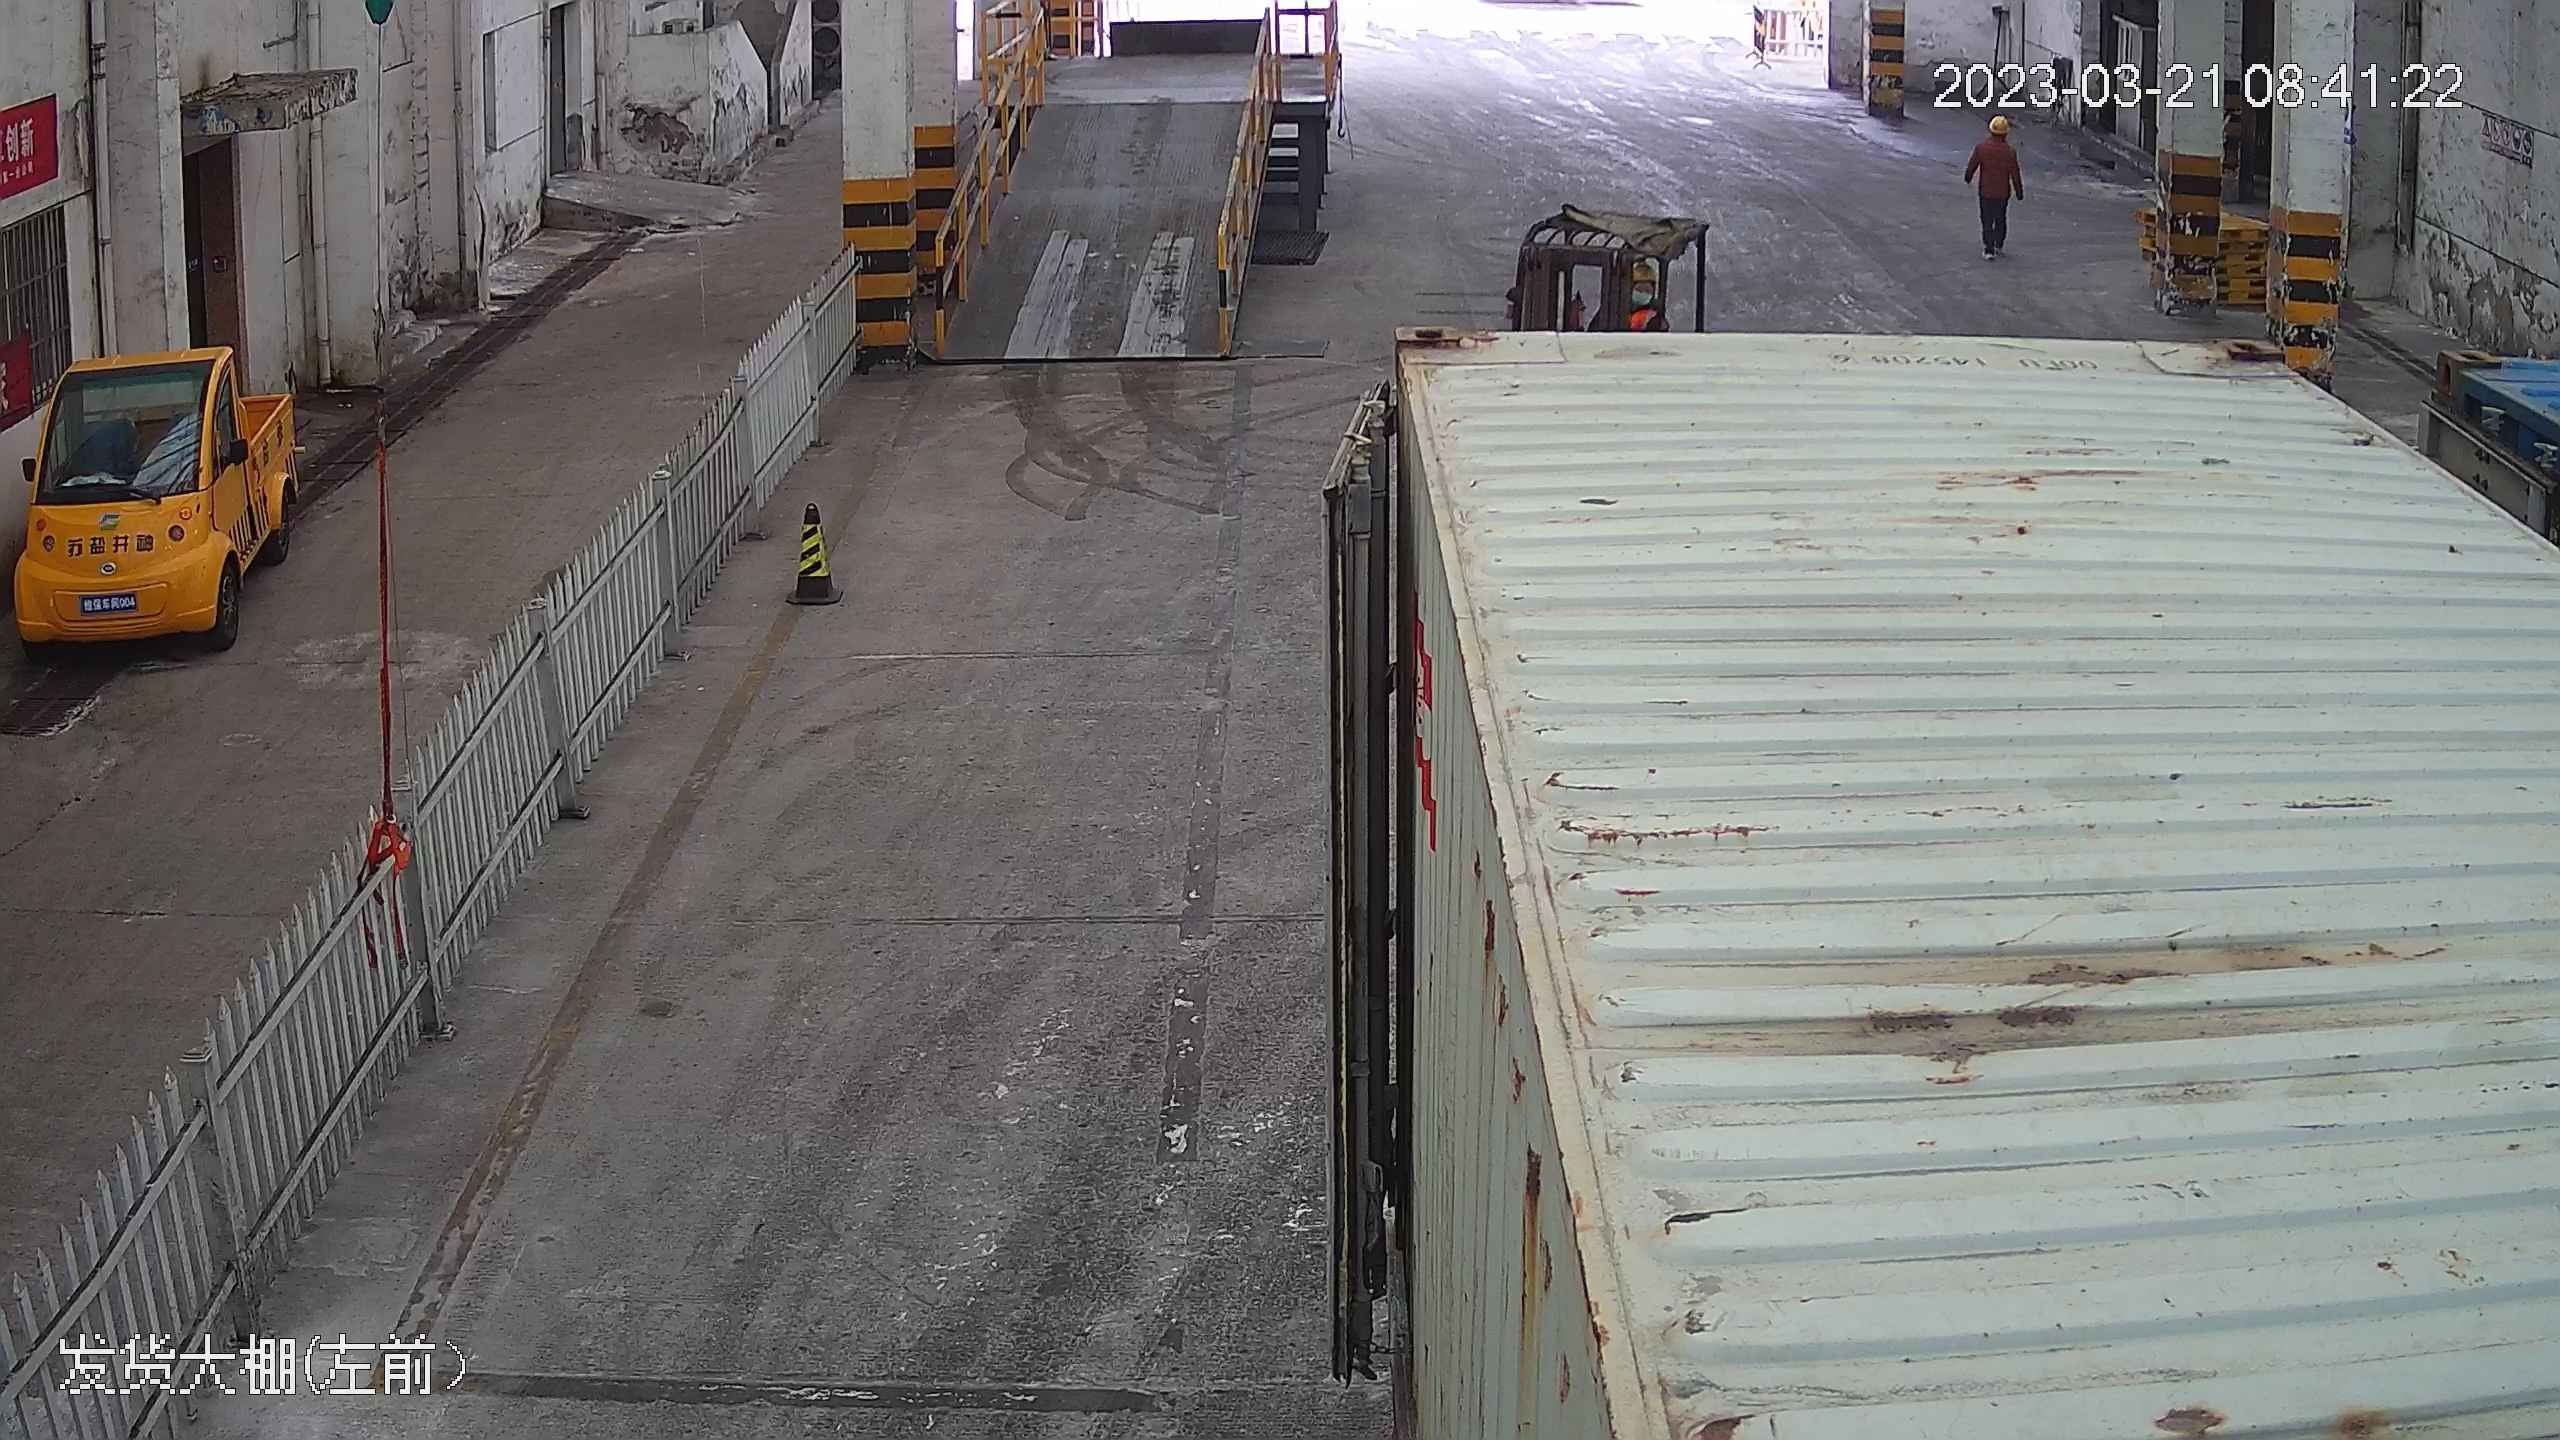head: (1972, 115, 2019, 165)
helmet: (1632, 260, 1659, 285), (1988, 115, 2011, 133)
people: (1963, 110, 2028, 262)
truck: (1310, 201, 2543, 1440)
